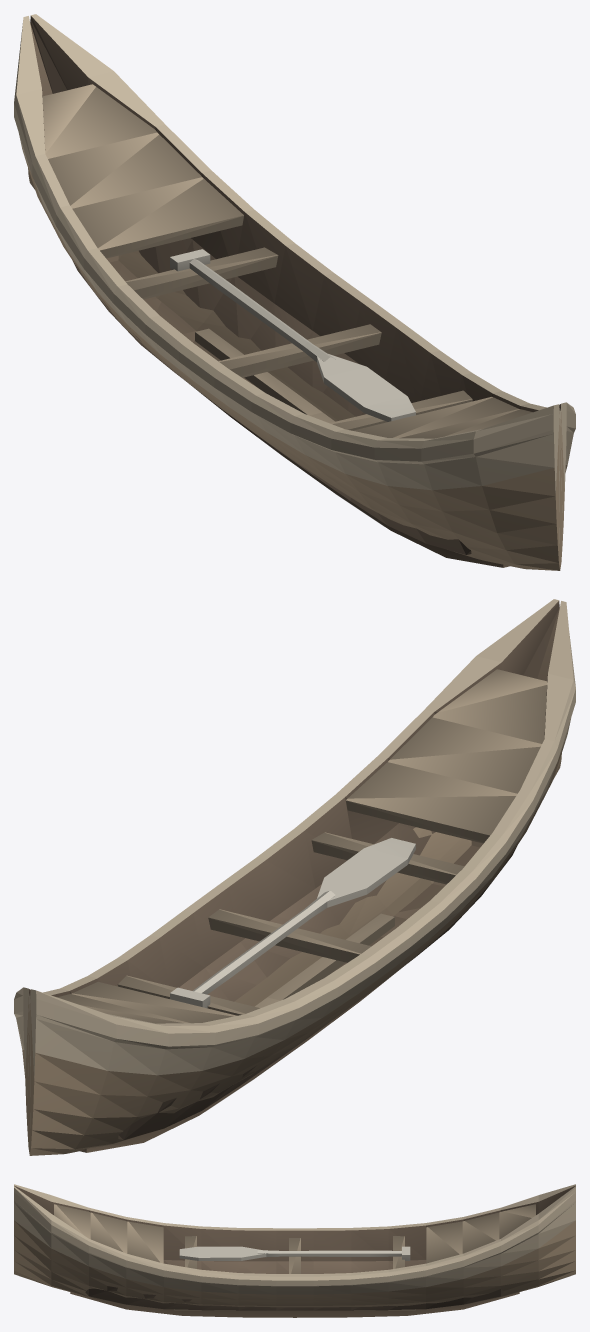
File: canoe.glb
3 renders of one model, top to bottom at view 1: azimuth 30°, elevation 25°; view 2: azimuth 150°, elevation 25°; view 3: azimuth 270°, elevation 25°, orthographic. The views are drawn at different scales.
Visible parts, largest first — view 1: canoe; view 2: canoe; view 3: canoe.
Part boxes in pixels (<box>): canoe: <box>14,14,575,570</box>; canoe: <box>14,599,575,1155</box>; canoe: <box>14,1184,575,1317</box>.
Bounding box in the file's own units: 0.8981 × 1.06 × 4.2.
